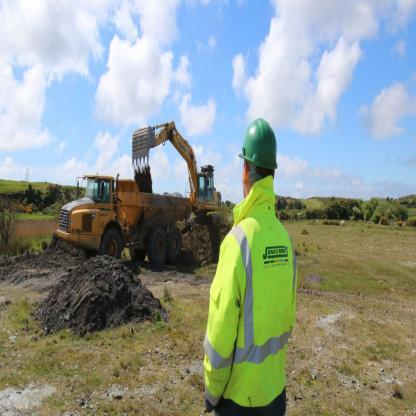dump_truck: (60, 161, 193, 281)
person: (204, 93, 295, 416)
